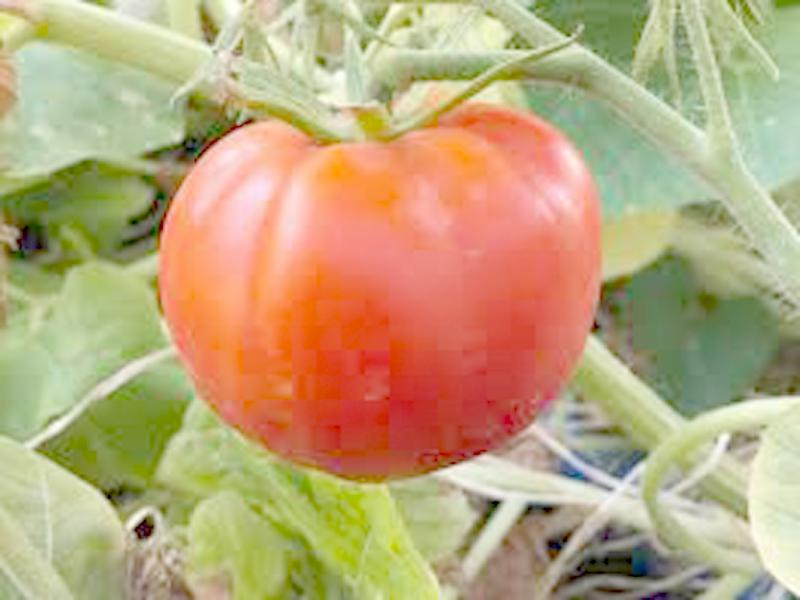Tomato: (158, 103, 605, 478)
